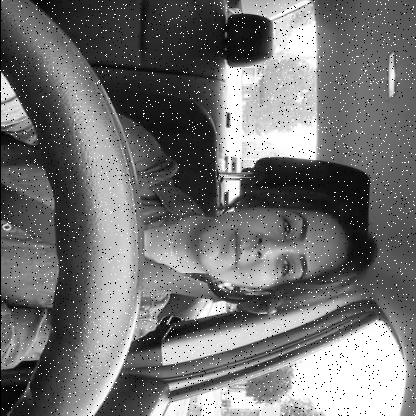seatbelt: (0, 172, 401, 319)
